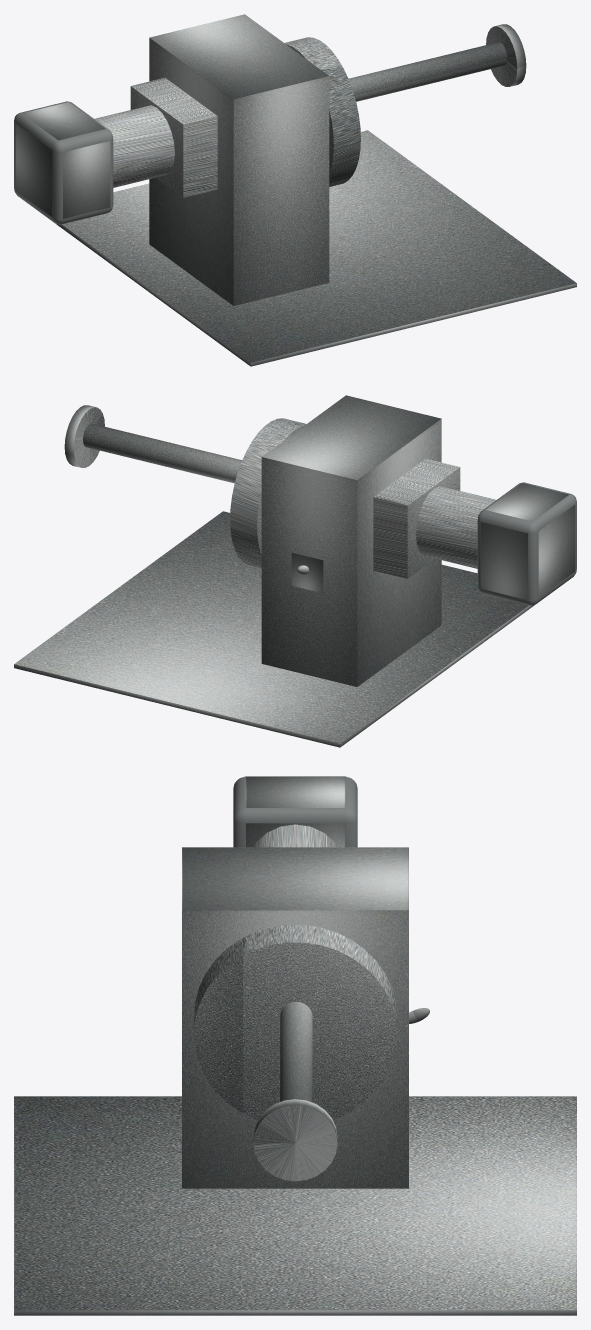
The model's file is 本体部分.fbx.
3 renders of one model, top to bottom at view 1: azimuth 30°, elevation 25°; view 2: azimuth 150°, elevation 25°; view 3: azimuth 270°, elevation 25°, orthographic. The views are drawn at different scales.
Parts seen in each view (by area): view 1: 本体; view 2: 本体; view 3: 本体.
Boxes of the visible parts, bbox=[...] form: 本体: bbox=[14, 14, 576, 366]; 本体: bbox=[14, 395, 576, 747]; 本体: bbox=[14, 776, 576, 1315].
Bounding box in the file's own units: 263 × 111 × 200.
